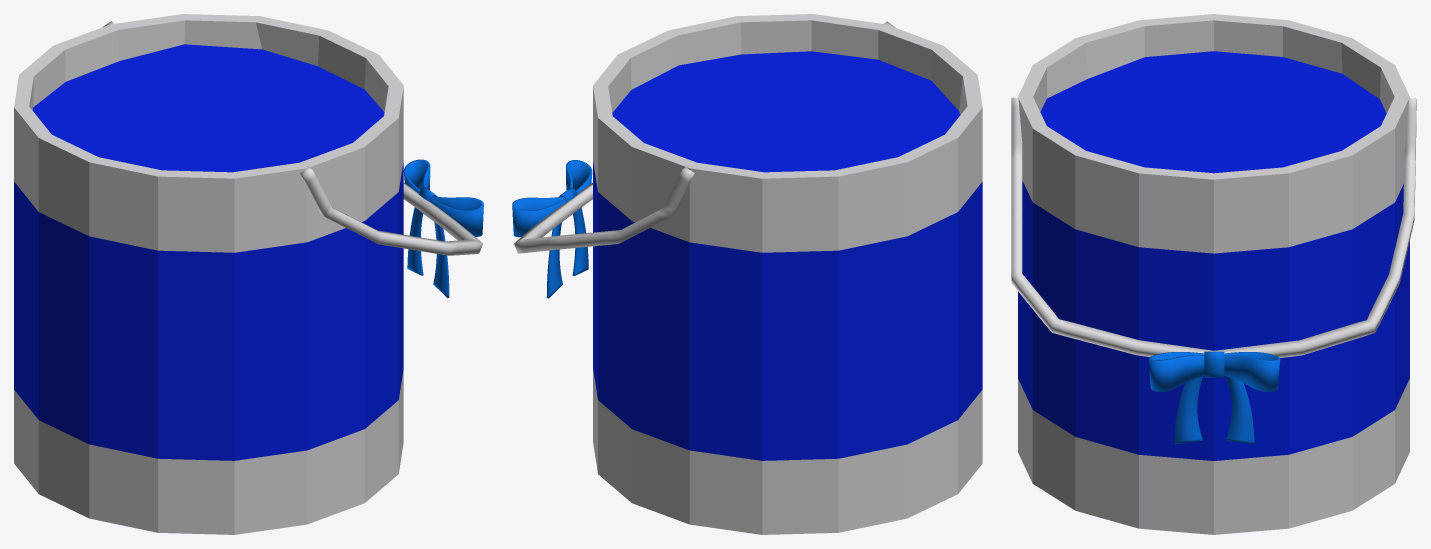
The model's file is PaintbucketBlue.fbx.
3 renders of one model, left to right at view 1: azimuth 30°, elevation 25°; view 2: azimuth 150°, elevation 25°; view 3: azimuth 270°, elevation 25°, orthographic.
Parts seen in each view (by area): view 1: PaintBucket.001; view 2: PaintBucket.001; view 3: PaintBucket.001.
Boxes of the visible parts, left/top/right/bottom form: PaintBucket.001: left=14, top=14, right=483, bottom=534; PaintBucket.001: left=512, top=14, right=982, bottom=534; PaintBucket.001: left=1011, top=14, right=1416, bottom=534.
Size of the model in its own units: 245 by 200 by 207.
